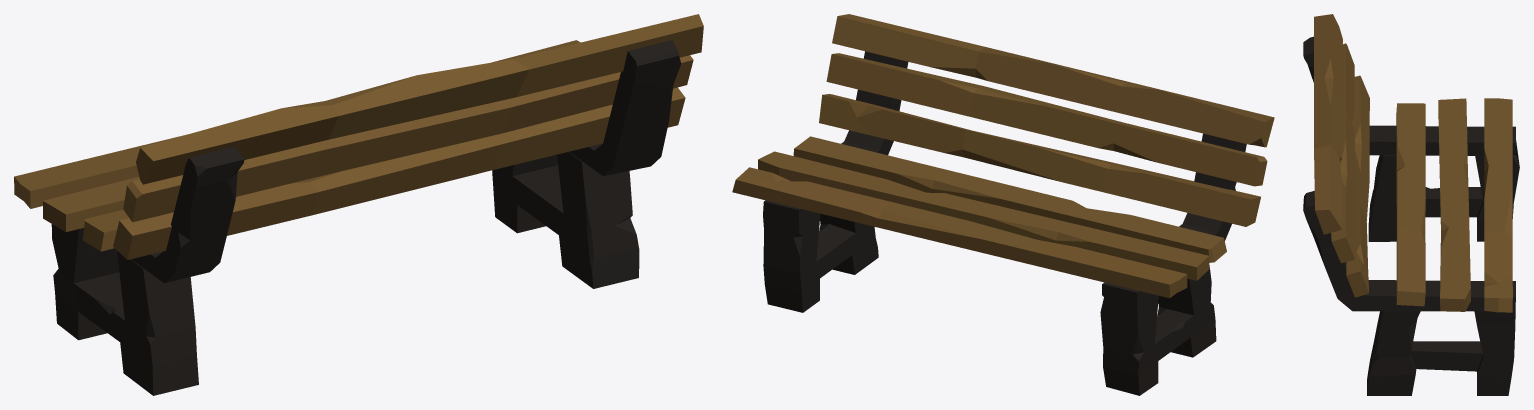
The model's file is park_bench.glb.
The picture shows the model from 3 angles, left to right: view 1: azimuth 30°, elevation 25°; view 2: azimuth 150°, elevation 25°; view 3: azimuth 270°, elevation 25°; orthographic projection. The views are drawn at different scales.
Parts seen in each view (by area): view 1: Cube; view 2: Cube; view 3: Cube.
Boxes of the visible parts, x1,y1,x2,y2 form: Cube: (14,14,703,395); Cube: (732,14,1274,395); Cube: (1303,14,1519,395).
Bounding box in the file's own units: 2.04 × 0.9626 × 0.9298.
